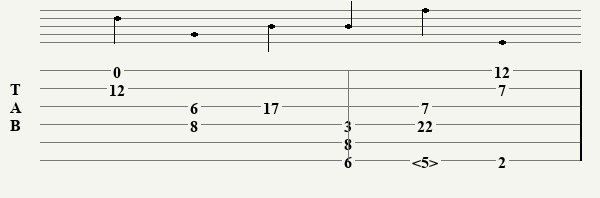0: (113, 63, 125, 78)
12: (109, 81, 129, 96), (494, 63, 514, 78)
17: (263, 99, 283, 114)
2: (498, 153, 510, 168)
22: (417, 117, 437, 132)
3: (344, 117, 356, 132)
6: (190, 99, 202, 114), (344, 153, 356, 168)
7: (421, 99, 433, 114), (498, 81, 510, 96)
8: (190, 117, 202, 132), (344, 135, 356, 150)
harmonic: (412, 153, 442, 168)
